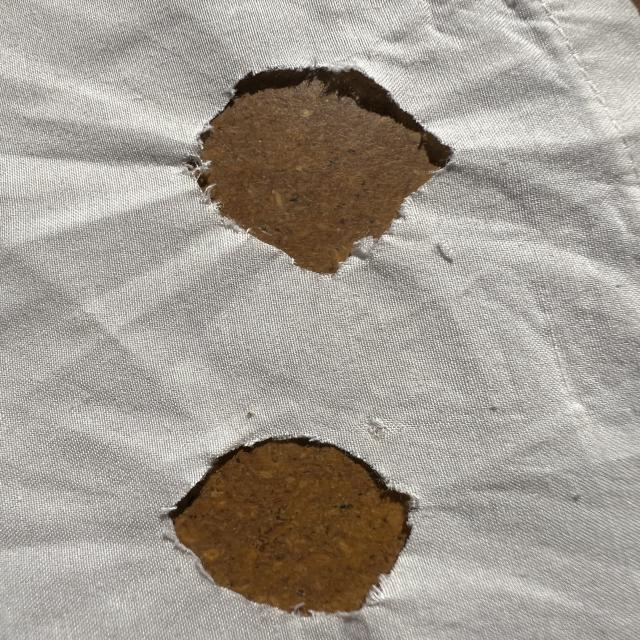hole: (183, 64, 455, 278), (166, 432, 416, 620)
